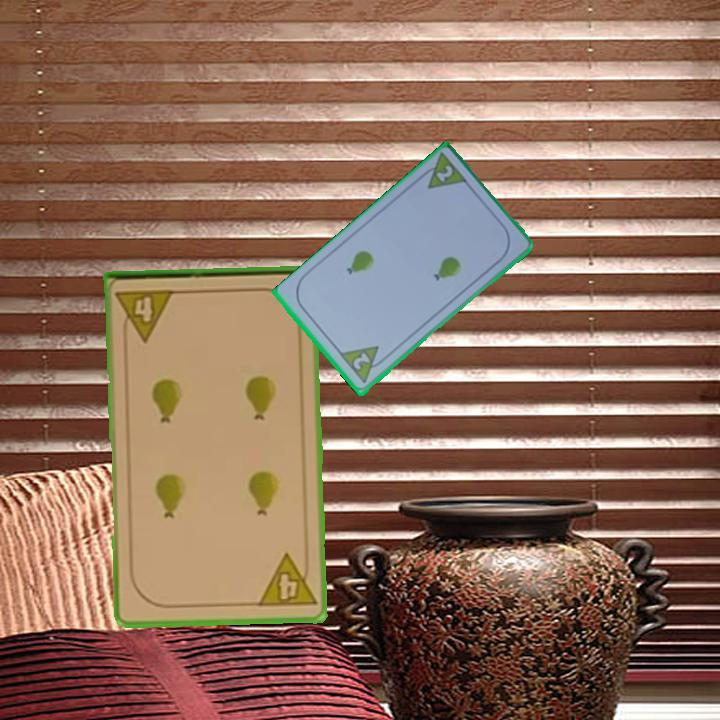2p: (337, 342, 390, 387), (432, 162, 456, 186)
4p: (254, 550, 319, 611), (113, 286, 178, 344)
